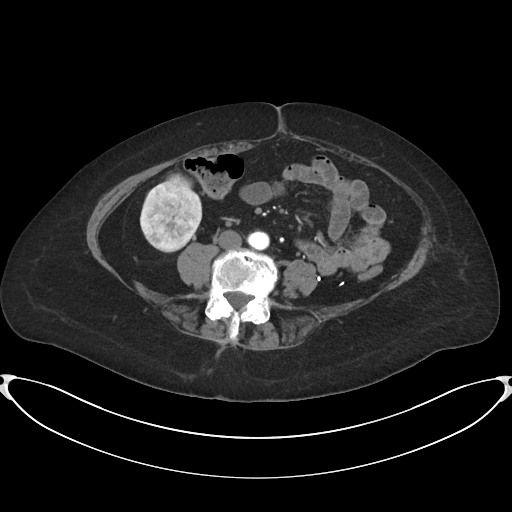Lesion: (138, 180, 207, 258)
